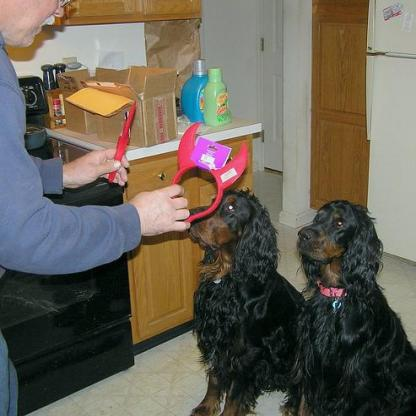Gordon_setter: (271, 194, 413, 414), (181, 188, 299, 414)
